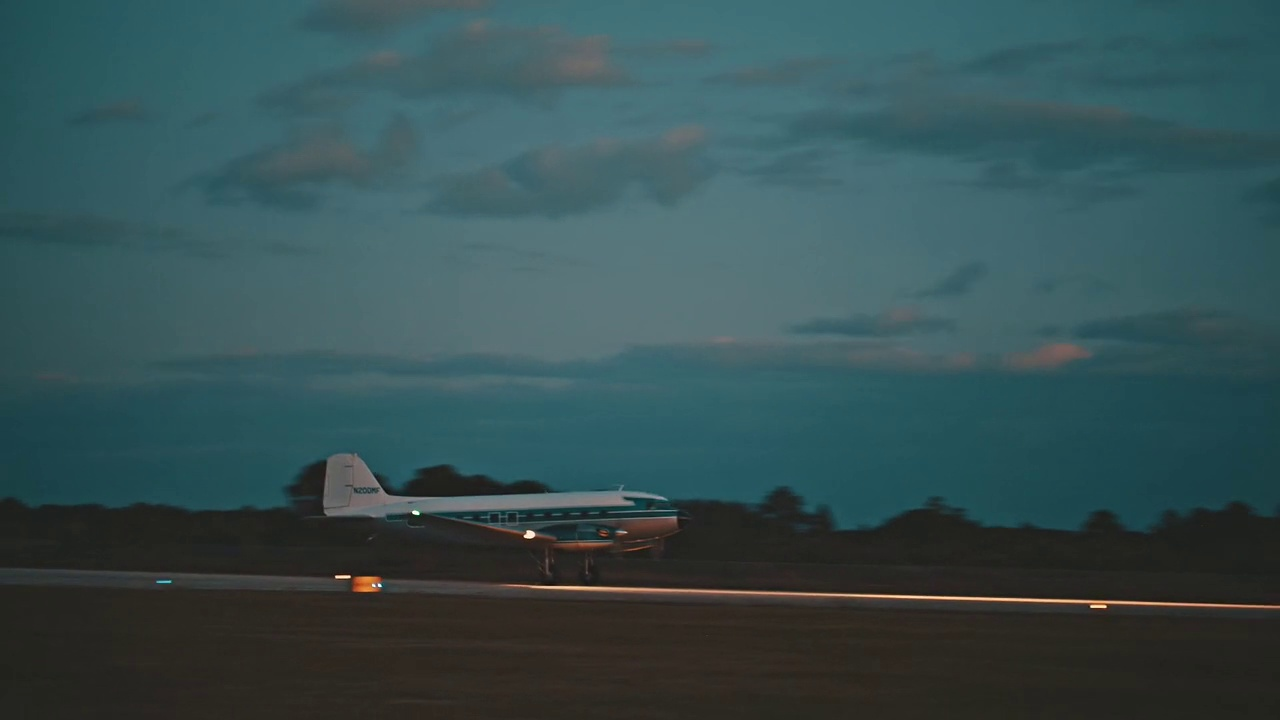plane: (301, 451, 694, 588)
